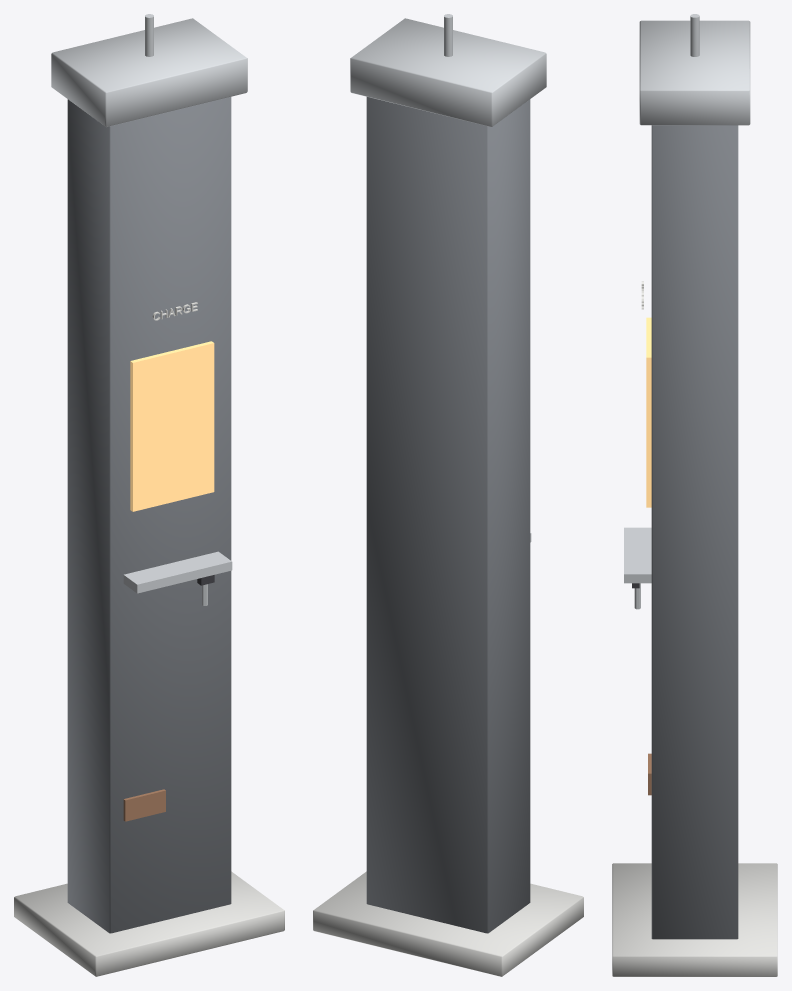
The model's file is Kiosk_Charge.fbx.
3 views of the same model, side by side, from view 1: azimuth 30°, elevation 25°; view 2: azimuth 150°, elevation 25°; view 3: azimuth 270°, elevation 25° (orthographic).
Visible parts, largest first — view 1: LOD0; view 2: LOD0; view 3: LOD0.
Part boxes in pixels (x1,y1,x2,y2): LOD0: (14,14,284,976); LOD0: (313,14,583,976); LOD0: (612,14,777,976).
Size of what is drawn, in the model's own units: 56 by 256 by 42.
